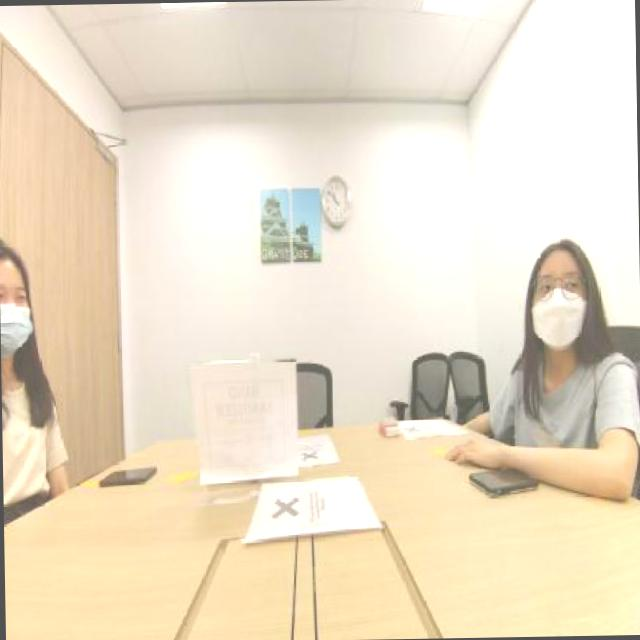Person: (485, 216, 634, 457), (4, 218, 69, 507)
